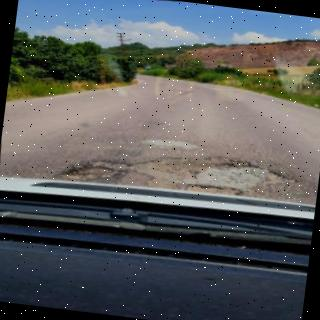pothole: (60, 156, 291, 198)
